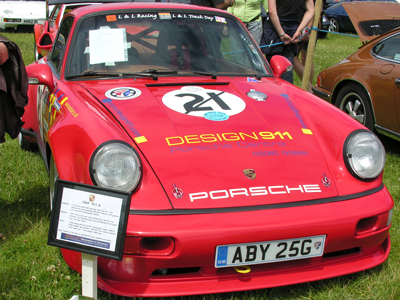licencePlate: (215, 232, 330, 271)
